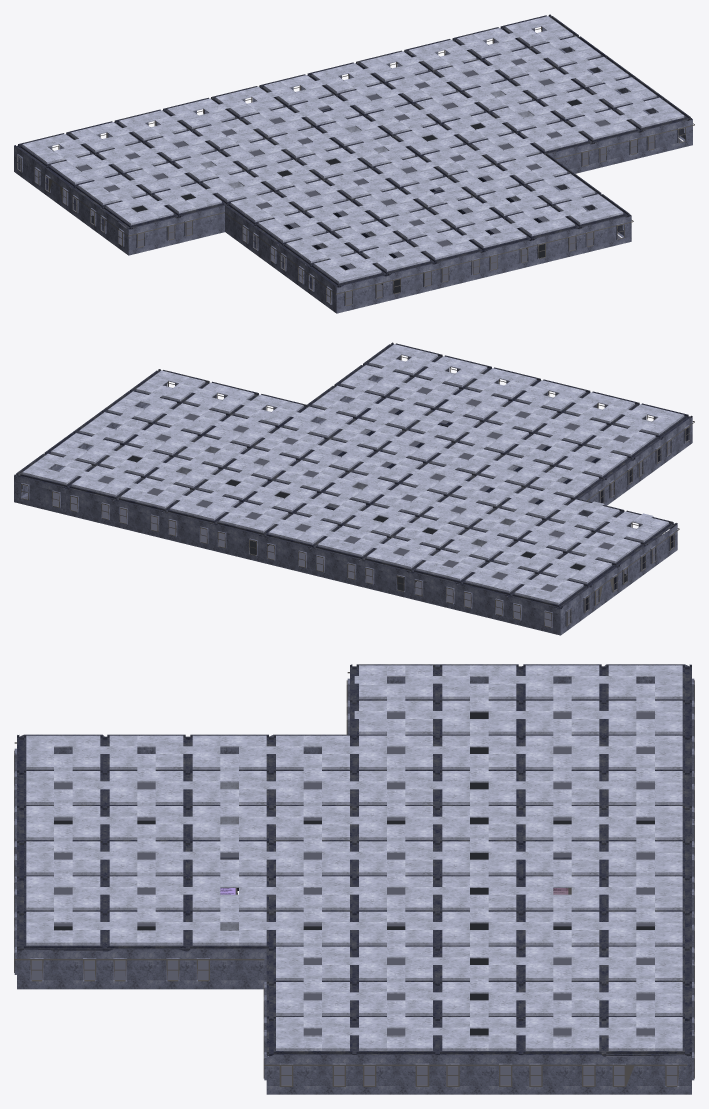
File: metallic-showroom-gallery.glb
3 renders of one model, top to bottom at view 1: azimuth 30°, elevation 25°; view 2: azimuth 150°, elevation 25°; view 3: azimuth 270°, elevation 25°, orthographic. The views are drawn at different scales.
Parts seen in each view (by area): view 1: Material2 (×7); view 2: Material2 (×7); view 3: Material2 (×6).
Part boxes in pixels (x1,y1,x2,y2): Material2 (×7): [14, 14, 694, 313]; Material2 (×7): [14, 342, 694, 635]; Material2 (×6): [14, 664, 694, 1094].
Bounding box in the file's own units: 2416 × 125 × 1768.
Materials: 11 (7 with a texture image).
